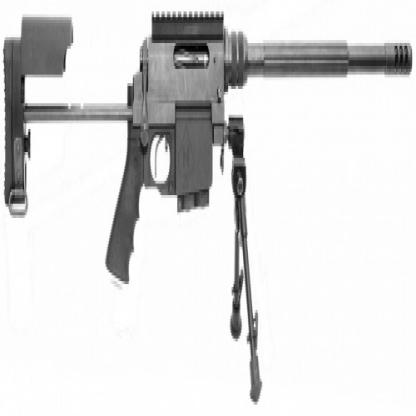Guns: (2, 3, 412, 402)
